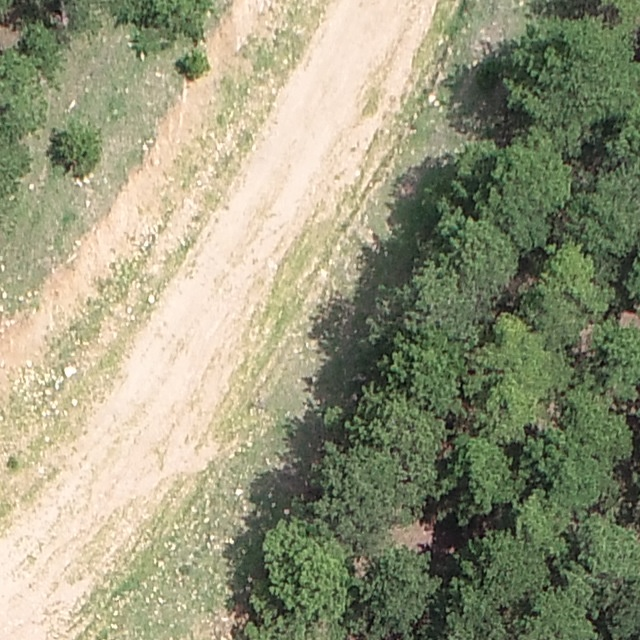unhealthy: (573, 322, 599, 358)
